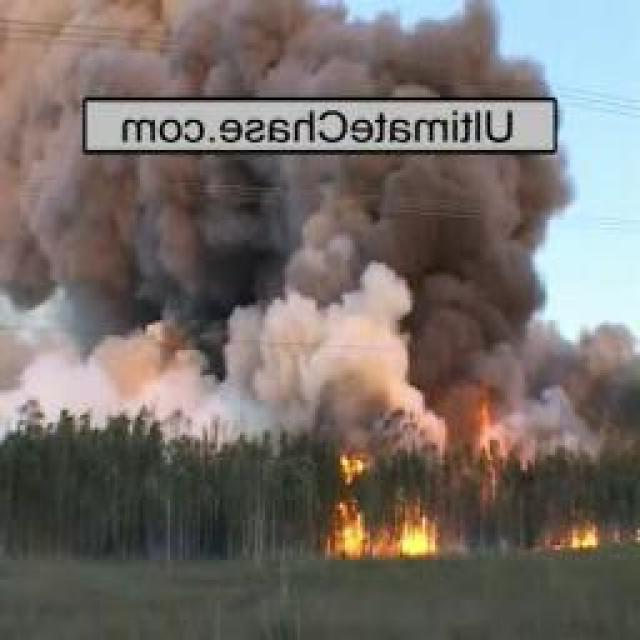Fire: (325, 460, 440, 558), (470, 395, 501, 489), (555, 522, 600, 548)
